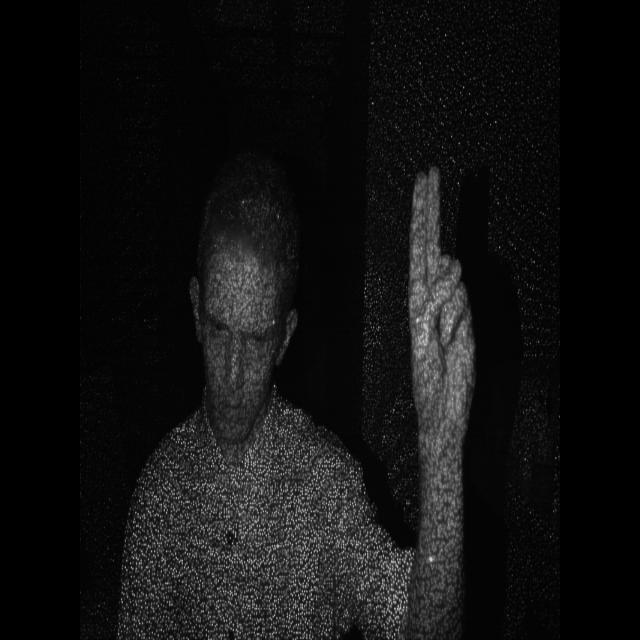U: (399, 161, 481, 441)
